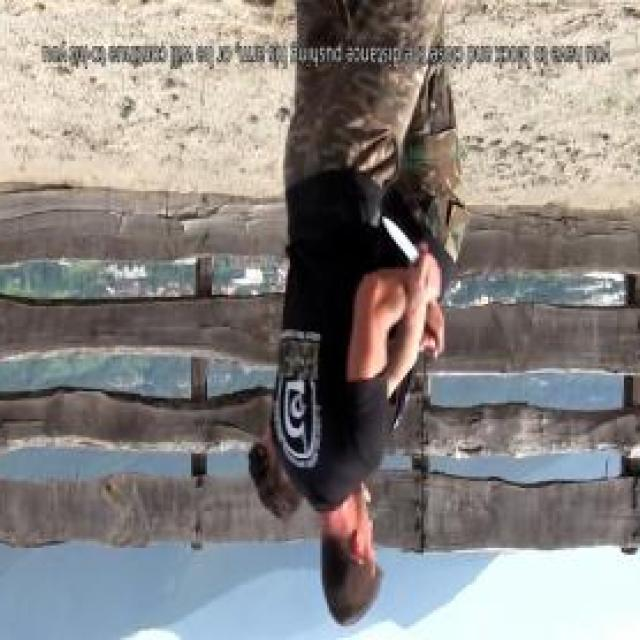knife: (379, 213, 444, 308)
